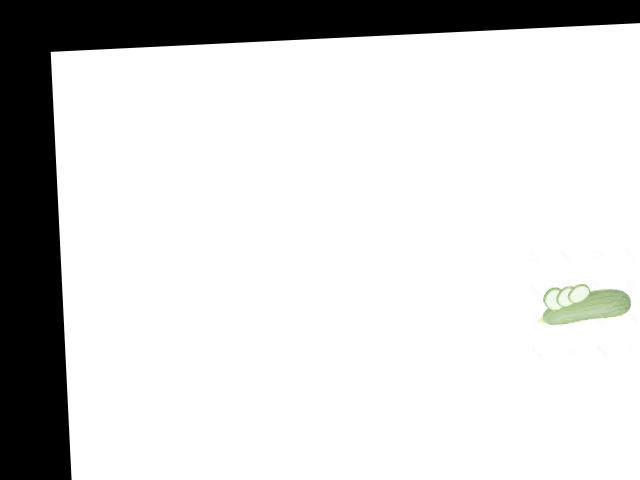cucumber: (536, 287, 633, 325)
